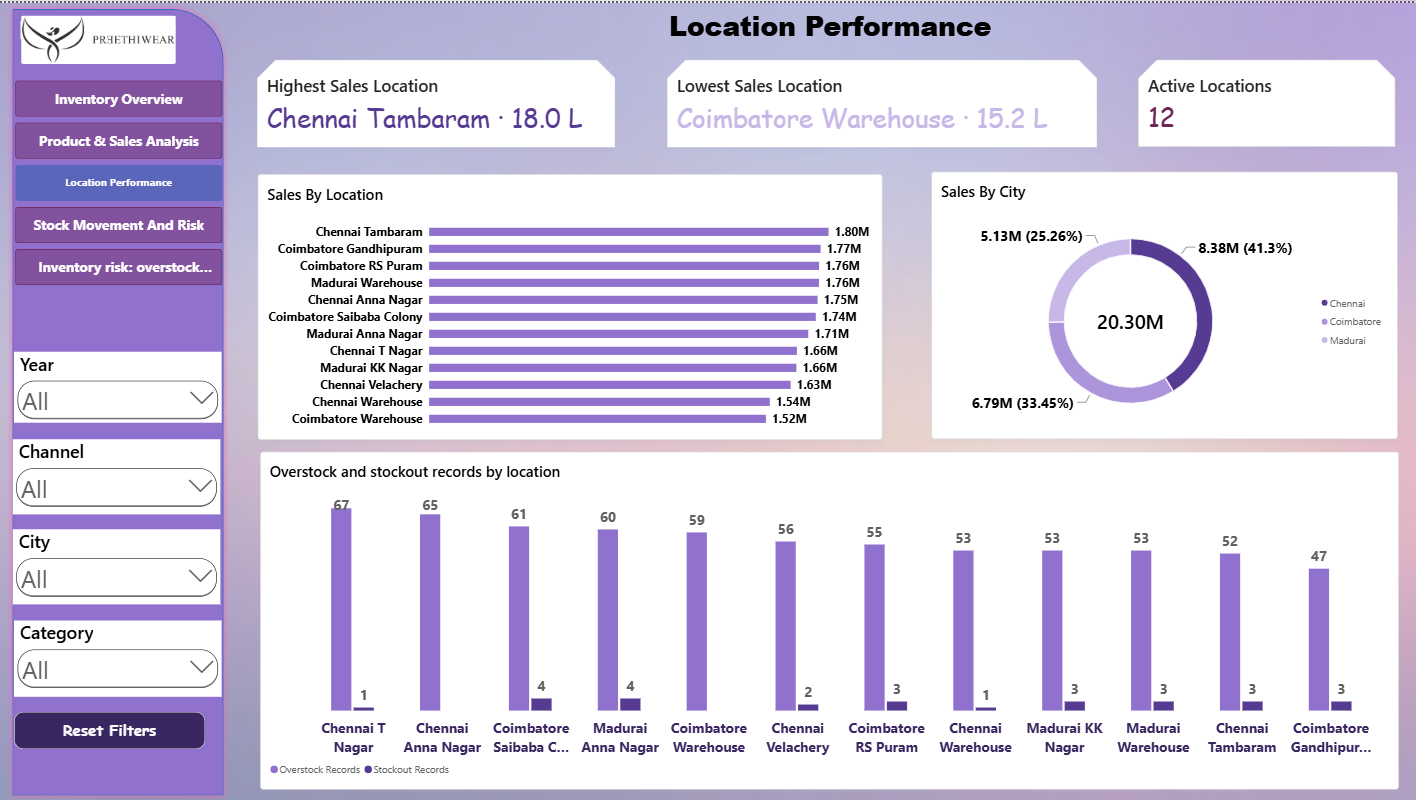

Layout of this report page (visuals, bound fields, positions):
{"tool":"powerbi","page":{"name":"Location Performance","canvas":[1920,1080],"ordinal":2},"visuals":[{"type":"cardVisual","fields":{"Data":["Inventory Locations.Highest Sales Location"]},"box":[349,76.4,485.3,119.8],"z":0},{"type":"textbox","title":"Location Performance","box":[353.1,4.7,1541.7,63.8],"z":1000},{"type":"cardVisual","fields":{"Data":["Inventory Locations.Lowest Sales Location"]},"box":[903.6,76.2,582.3,119.8],"z":2000},{"type":"cardVisual","fields":{"Data":["Inventory Locations.Active Locations"]},"box":[1539.6,76.2,349.9,119.4],"z":3000},{"type":"clusteredBarChart","title":"Sales By Location","fields":{"Category":["Inventory Locations.location_name"],"Y":["Inventory Transactions.Total Sales"]},"box":[350.6,230.9,844.5,359.2],"z":4000},{"type":"donutChart","title":"Sales By City","fields":{"Category":["Inventory Locations.City"],"Y":["Inventory Transactions.Total Sales"]},"box":[1261.2,228.2,630.6,361.8],"z":5000},{"type":"clusteredColumnChart","title":"Overstock and stockout records by location","fields":{"Category":["Inventory Locations.location_name"],"Y":["Inventory Transactions.Overstock Records","Inventory Transactions.Stockout Records"]},"box":[352.8,607.5,1539.6,456.6],"z":6000},{"type":"shape","box":[10.3,0,301.5,1080],"z":7000},{"type":"pageNavigator","box":[21.4,104.8,280.1,278],"z":8000},{"type":"textbox","title":"Inventory Intelligence","box":[29.9,51.3,259.3,57.6],"z":9000},{"type":"textbox","title":"Preethi Wear","box":[27.8,17.1,290.2,49.4],"z":10000},{"type":"slicer","fields":{"Values":["Date.Year"]},"box":[20.3,471.7,280.7,96.4],"z":15000},{"type":"slicer","fields":{"Values":["Inventory Locations.Channel"]},"box":[18.6,590,280.7,101.4],"z":16000},{"type":"slicer","fields":{"Values":["Inventory Locations.City"]},"box":[18.6,711.8,280.7,101.4],"z":17000},{"type":"slicer","fields":{"Values":["Product Details.category"]},"box":[20.3,835.2,280.7,103.1],"z":18000},{"type":"actionButton","box":[20.3,958.6,258.7,50.7],"z":19000},{"type":"image","box":[25.4,16.9,218.1,65.9],"z":20000}]}

Visuals, with their boxes in screenshot pixels (x1, y1, x2, y2), scaled from the page's 1920x1080 canvas onto the 1416x800 screenshot:
cardVisual - Inventory Locations.Highest Sales Location: (left=257, top=57, right=615, bottom=145)
"Location Performance" textbox: (left=260, top=3, right=1397, bottom=51)
cardVisual - Inventory Locations.Lowest Sales Location: (left=666, top=56, right=1096, bottom=145)
cardVisual - Inventory Locations.Active Locations: (left=1135, top=56, right=1394, bottom=145)
"Sales By Location" clusteredBarChart: (left=259, top=171, right=881, bottom=437)
"Sales By City" donutChart: (left=930, top=169, right=1395, bottom=437)
"Overstock and stockout records by location" clusteredColumnChart: (left=260, top=450, right=1396, bottom=788)
shape: (left=8, top=0, right=230, bottom=799)
pageNavigator: (left=16, top=78, right=222, bottom=284)
"Inventory Intelligence" textbox: (left=22, top=38, right=213, bottom=81)
"Preethi Wear" textbox: (left=21, top=13, right=235, bottom=49)
slicer - Date.Year: (left=15, top=349, right=222, bottom=421)
slicer - Inventory Locations.Channel: (left=14, top=437, right=221, bottom=512)
slicer - Inventory Locations.City: (left=14, top=527, right=221, bottom=602)
slicer - Product Details.category: (left=15, top=619, right=222, bottom=695)
actionButton: (left=15, top=710, right=206, bottom=748)
image: (left=19, top=13, right=180, bottom=61)
